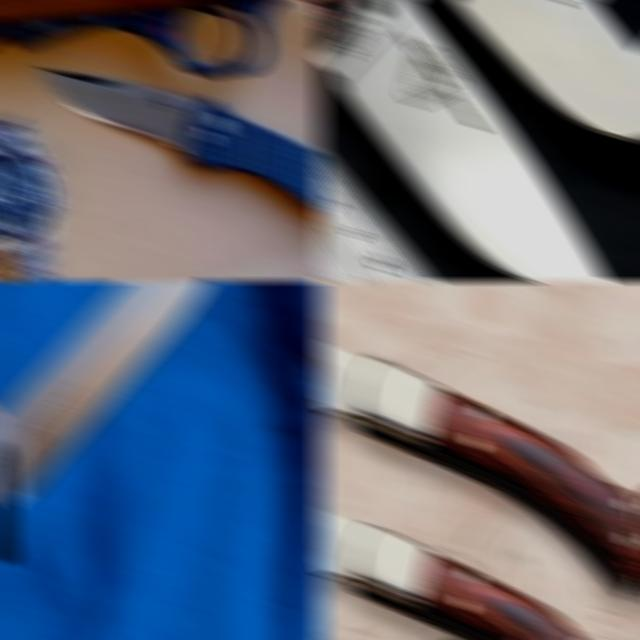Knife: (315, 339, 640, 598), (315, 0, 611, 282), (0, 280, 212, 560), (39, 68, 325, 213), (315, 507, 592, 640), (448, 0, 640, 142)
Knife_Handle: (0, 280, 254, 640)
